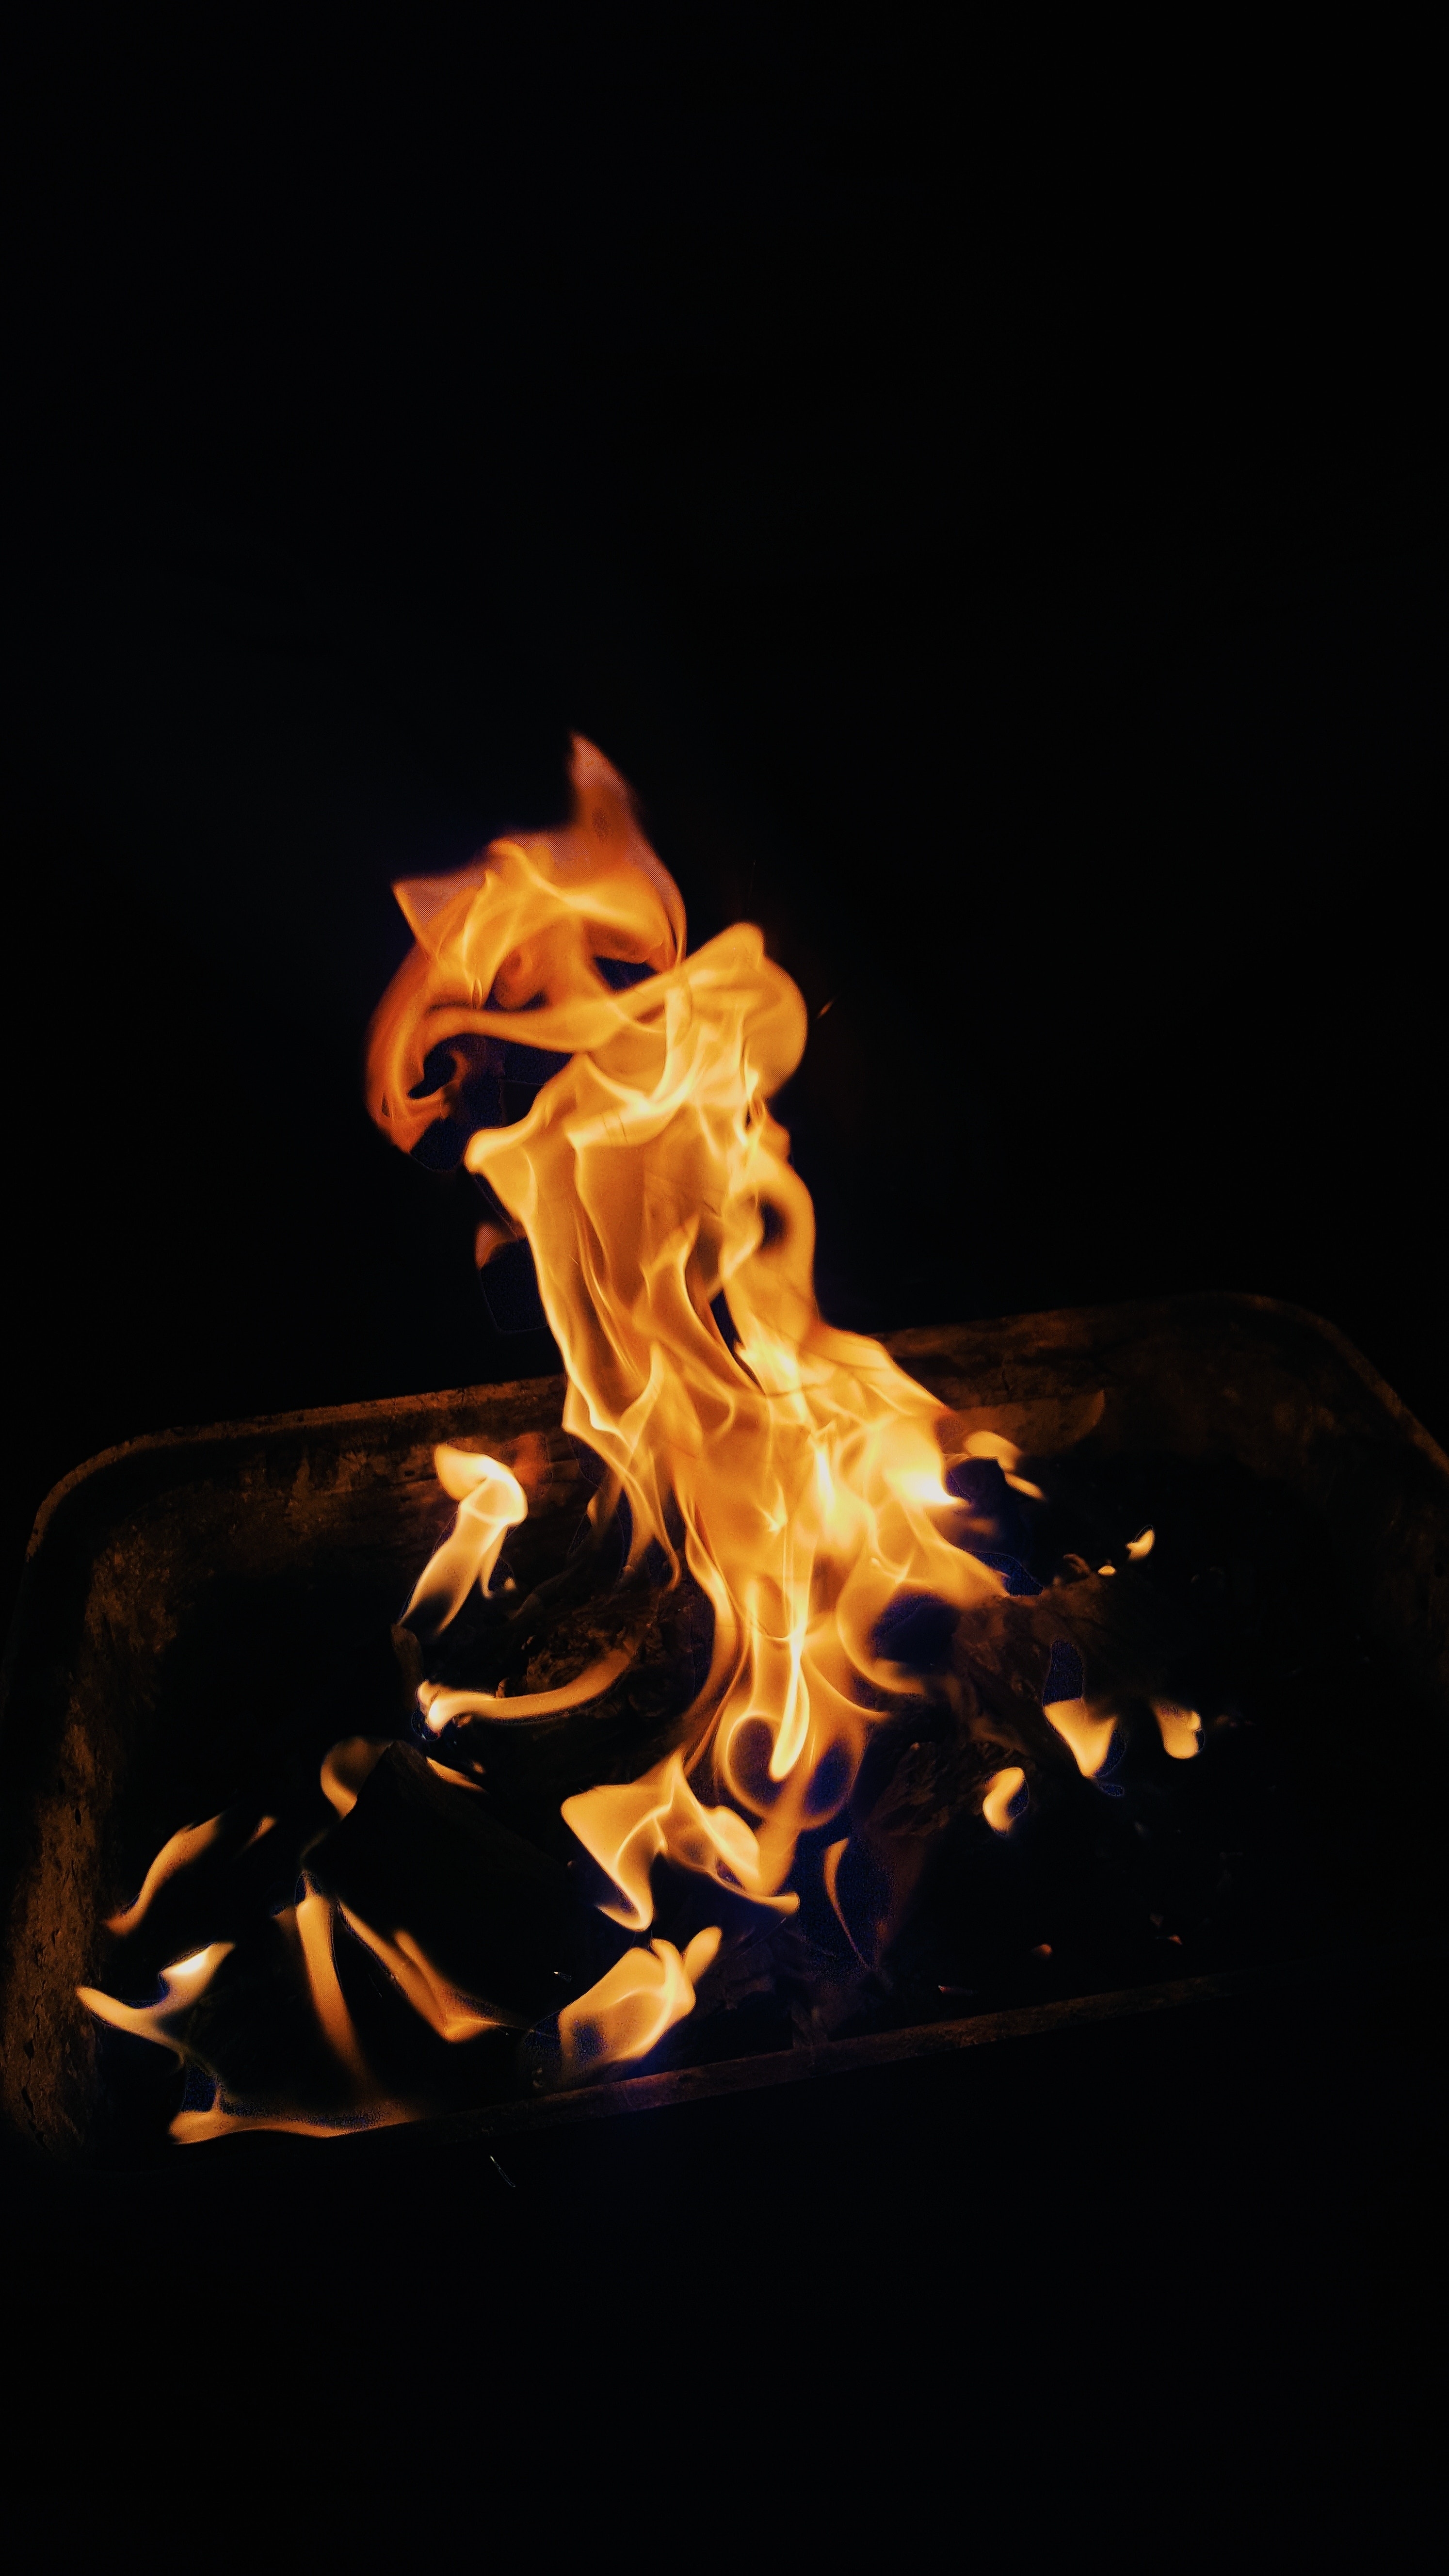fire: (60, 692, 1214, 2183)
